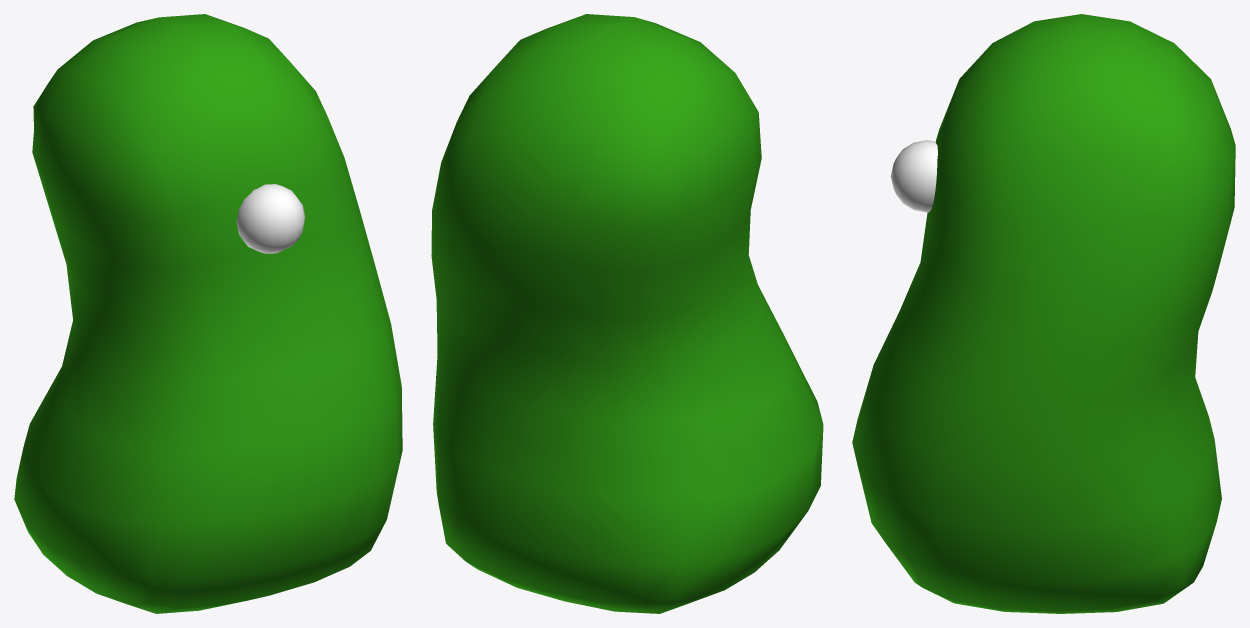
The model's file is Slime_05.fbx.
The picture shows the model from 3 angles, left to right: view 1: azimuth 30°, elevation 25°; view 2: azimuth 150°, elevation 25°; view 3: azimuth 270°, elevation 25°; orthographic projection. The views are drawn at different scales.
Visible parts, largest first — view 1: Slime_05; view 2: Slime_05; view 3: Slime_05.
Part boxes in pixels (x1=…): Slime_05: x1=14, y1=14, x2=402, y2=613; Slime_05: x1=431, y1=14, x2=823, y2=613; Slime_05: x1=852, y1=14, x2=1235, y2=613.
Size of the model in its own units: 0.4606 by 0.7245 by 0.4636.
